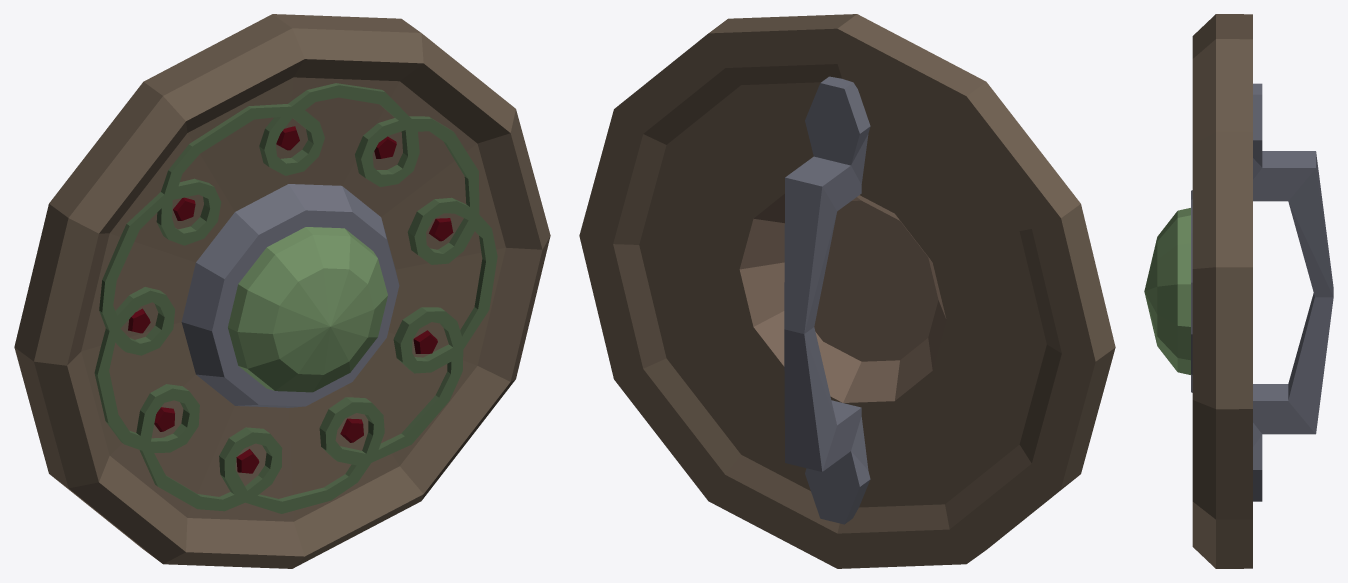
Rendered from _shield_4.fbx.
The picture shows the model from 3 angles, left to right: view 1: azimuth 30°, elevation 25°; view 2: azimuth 150°, elevation 25°; view 3: azimuth 270°, elevation 25°; orthographic projection. The views are drawn at different scales.
Parts seen in each view (by area): view 1: shield_4; view 2: shield_4; view 3: shield_4.
Part boxes in pixels (bbox=[...]): shield_4: bbox=[14, 14, 550, 568]; shield_4: bbox=[579, 14, 1115, 568]; shield_4: bbox=[1144, 14, 1333, 568].
Size of the model in its own units: 63.06 by 63.06 by 21.44.
